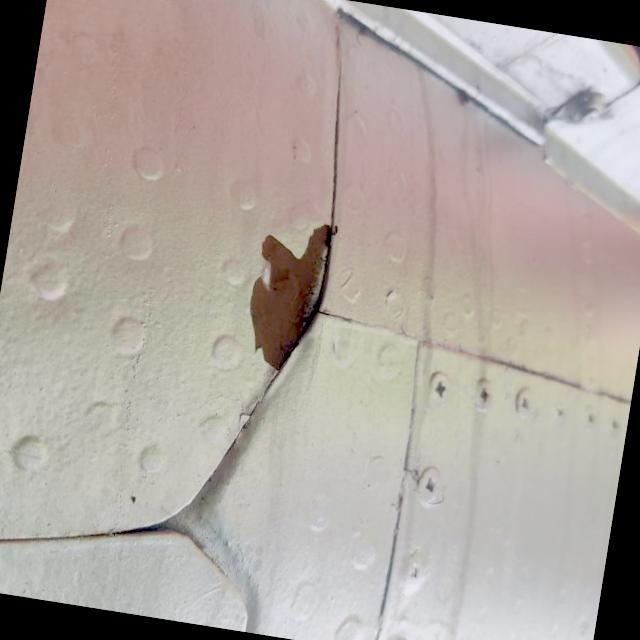paint-off: (202, 201, 360, 395)
